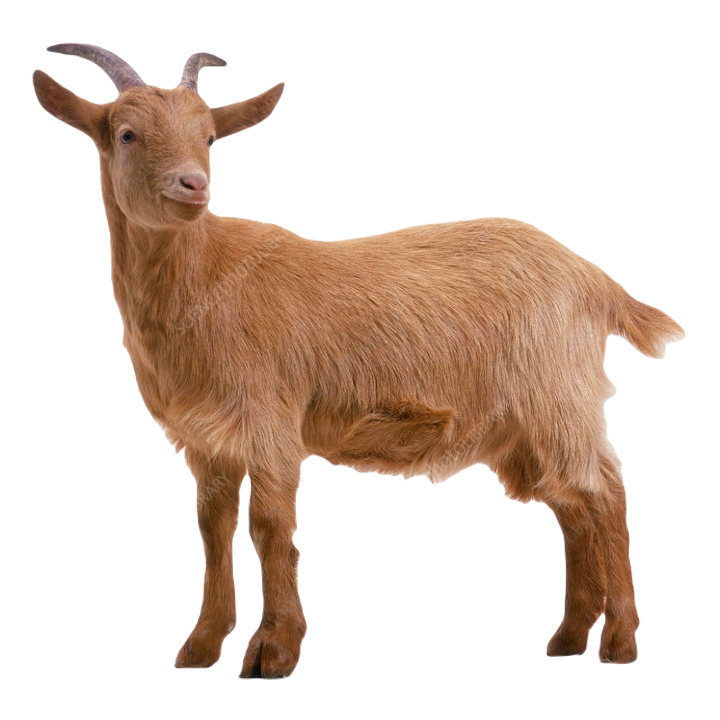Goat: (27, 33, 685, 683)
